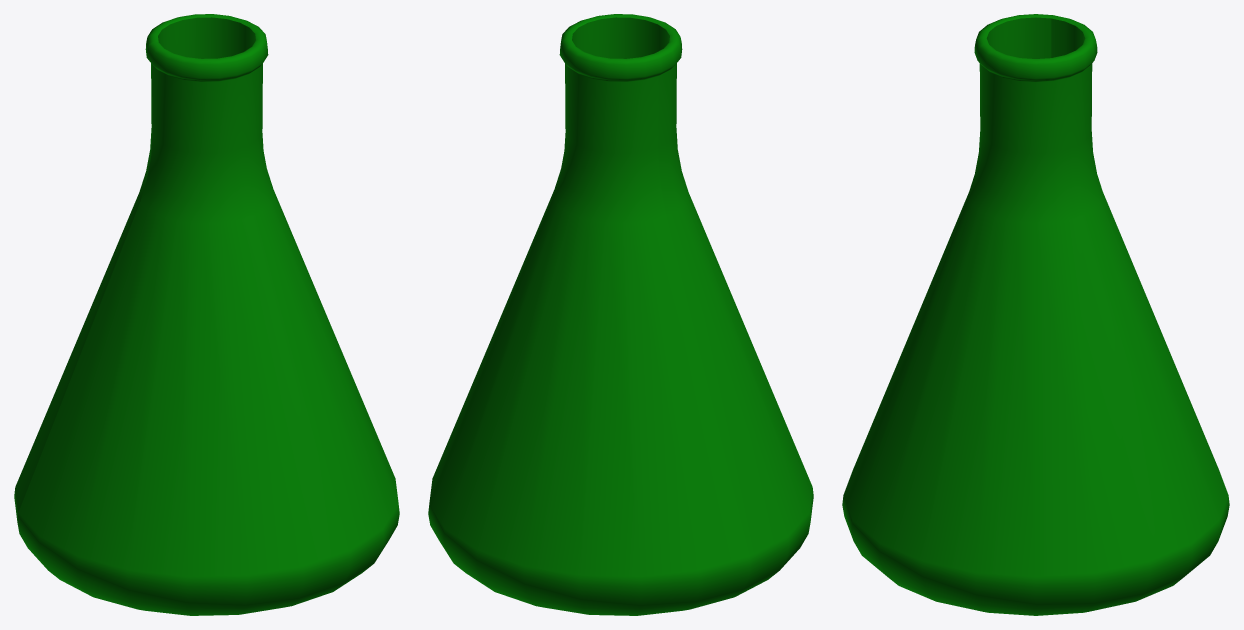
Rendered from erlenmayer.fbx.
The picture shows the model from 3 angles, left to right: view 1: azimuth 30°, elevation 25°; view 2: azimuth 150°, elevation 25°; view 3: azimuth 270°, elevation 25°; orthographic projection.
Parts seen in each view (by area): view 1: Erlenmayer_flash_low; view 2: Erlenmayer_flash_low; view 3: Erlenmayer_flash_low.
Boxes of the visible parts, x1,y1,x2,y2 form: Erlenmayer_flash_low: (14,14,399,615); Erlenmayer_flash_low: (428,14,813,615); Erlenmayer_flash_low: (842,14,1229,615).
Size of the model in its own units: 1.99 by 2.93 by 1.99.
